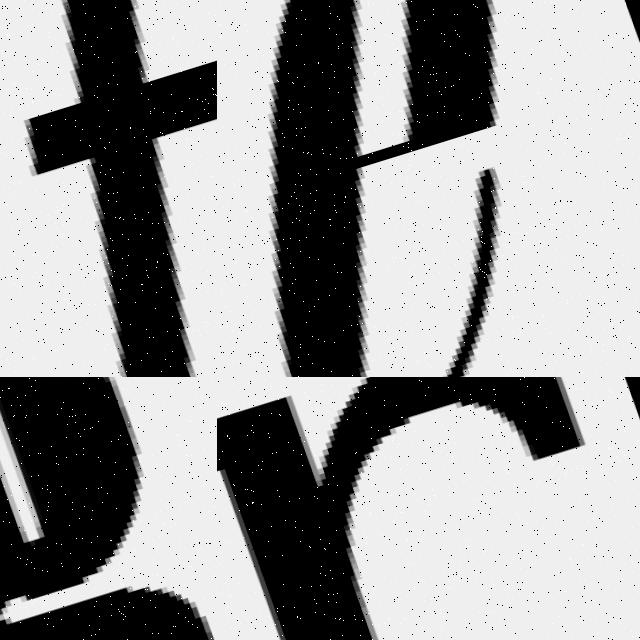E: (264, 0, 498, 377)
G: (0, 377, 217, 640)
R: (217, 377, 640, 640)
T: (0, 0, 217, 377)
